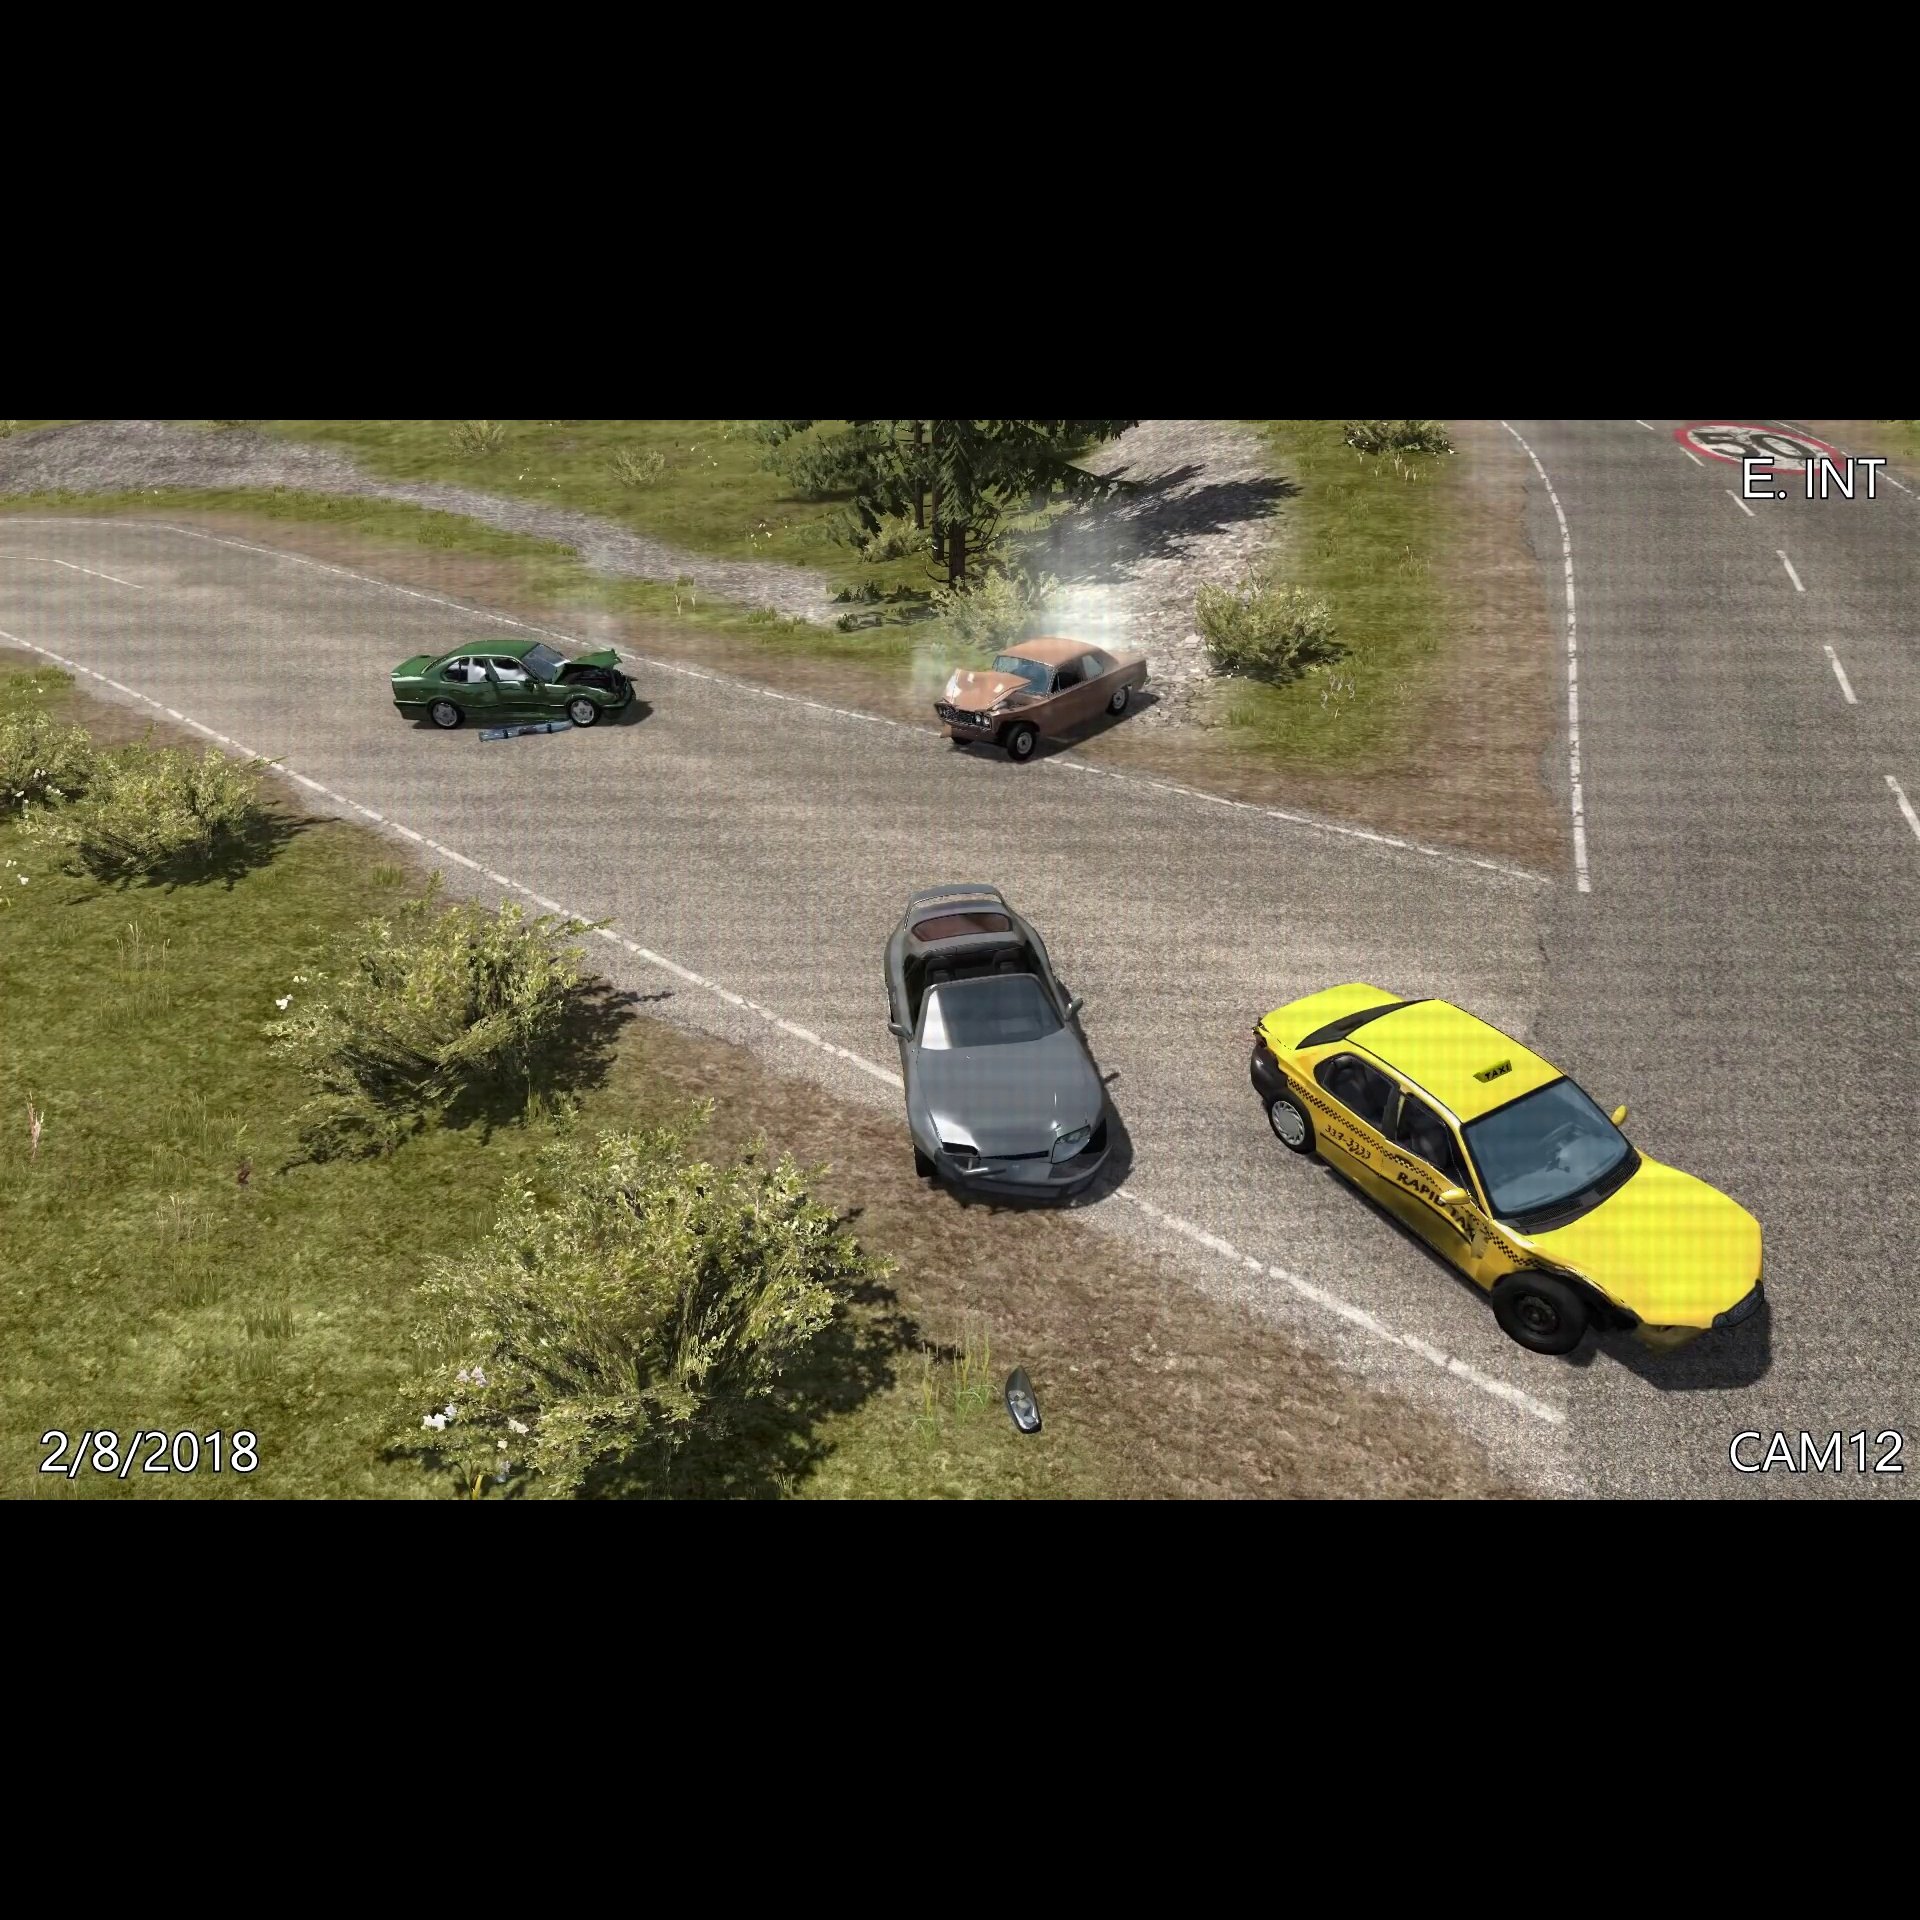vehicle: (1241, 969, 1786, 1384), (876, 876, 1125, 1224), (925, 629, 1153, 770), (382, 635, 642, 738)
